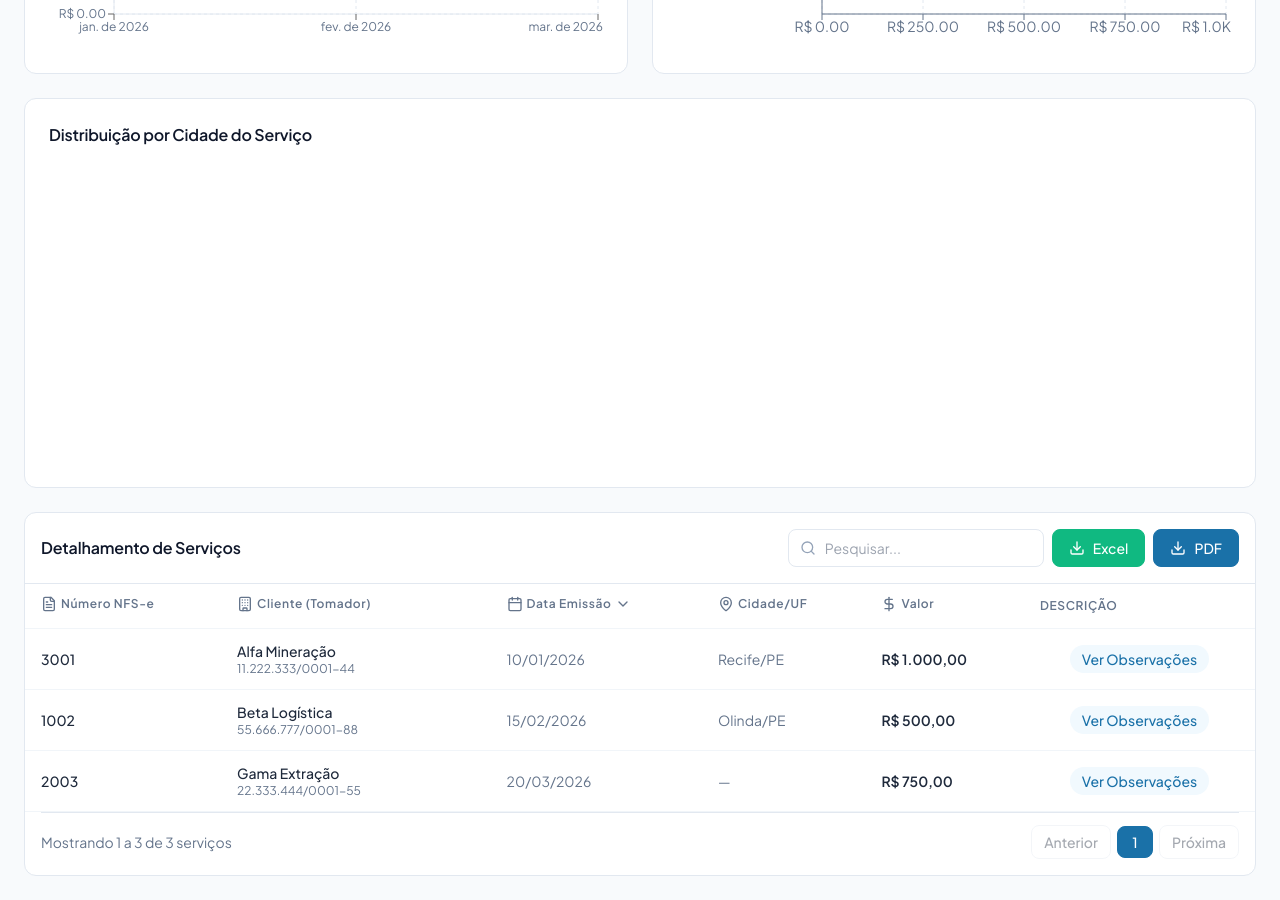
Test: tabela de Serviços › o modal so aparece depois do clique, e o Fechar o tira da tela
(page scrolled)
Expected: the text "Observações da Nota" is not shown
What coordinates should you click on to do the following:
click the button "Ver Observações" in the row of "3001"
I would click on:
 (1140, 659)
Its box is x1=1070 y1=645 x2=1209 y2=673.
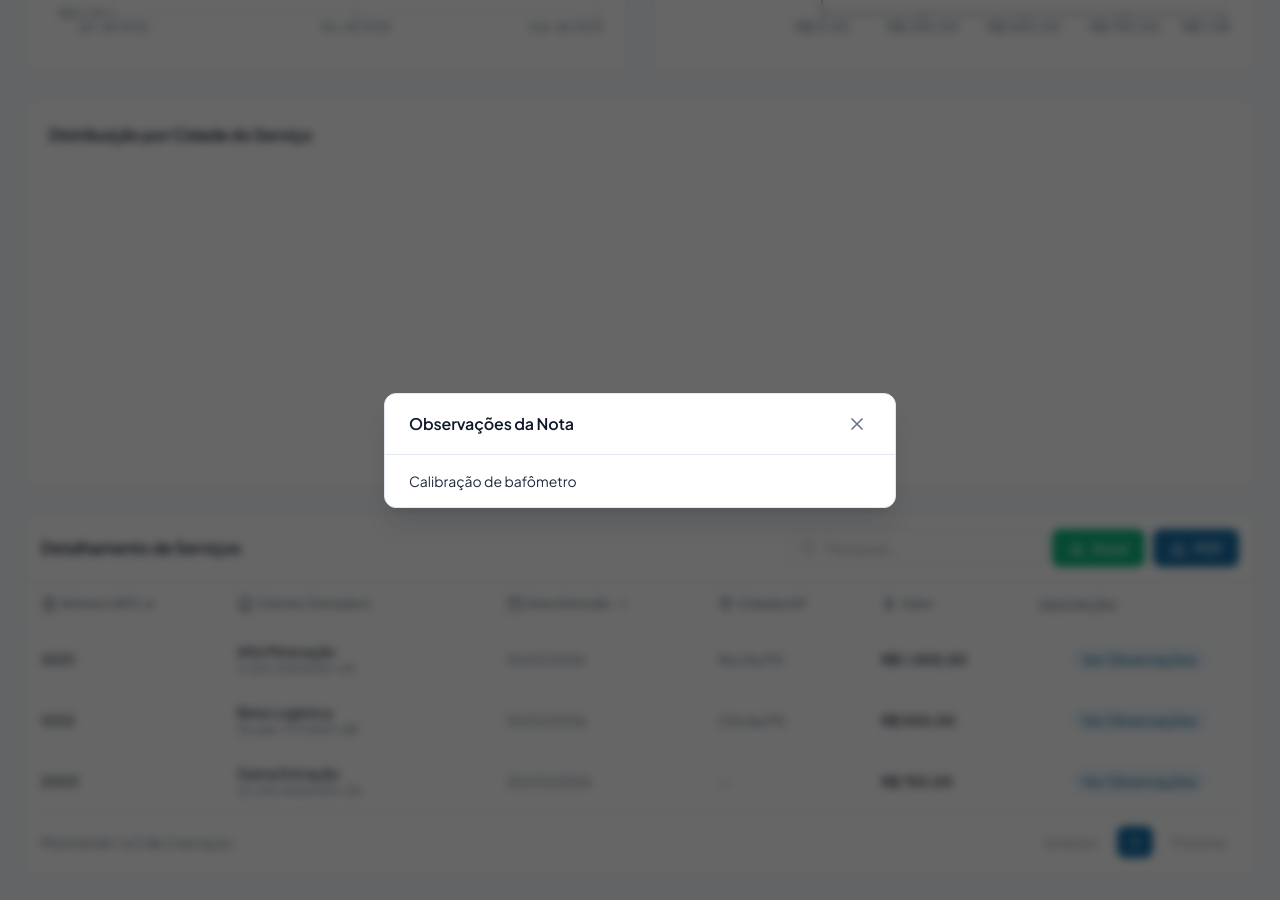
Expected: the heading "Observações da Nota" is shown, x1=409 y1=412 x2=574 y2=436
What coordinates should you click on to do the following:
click the button named "Fechar"
I would click on:
 (857, 424)
Its box is x1=843 y1=410 x2=871 y2=438.
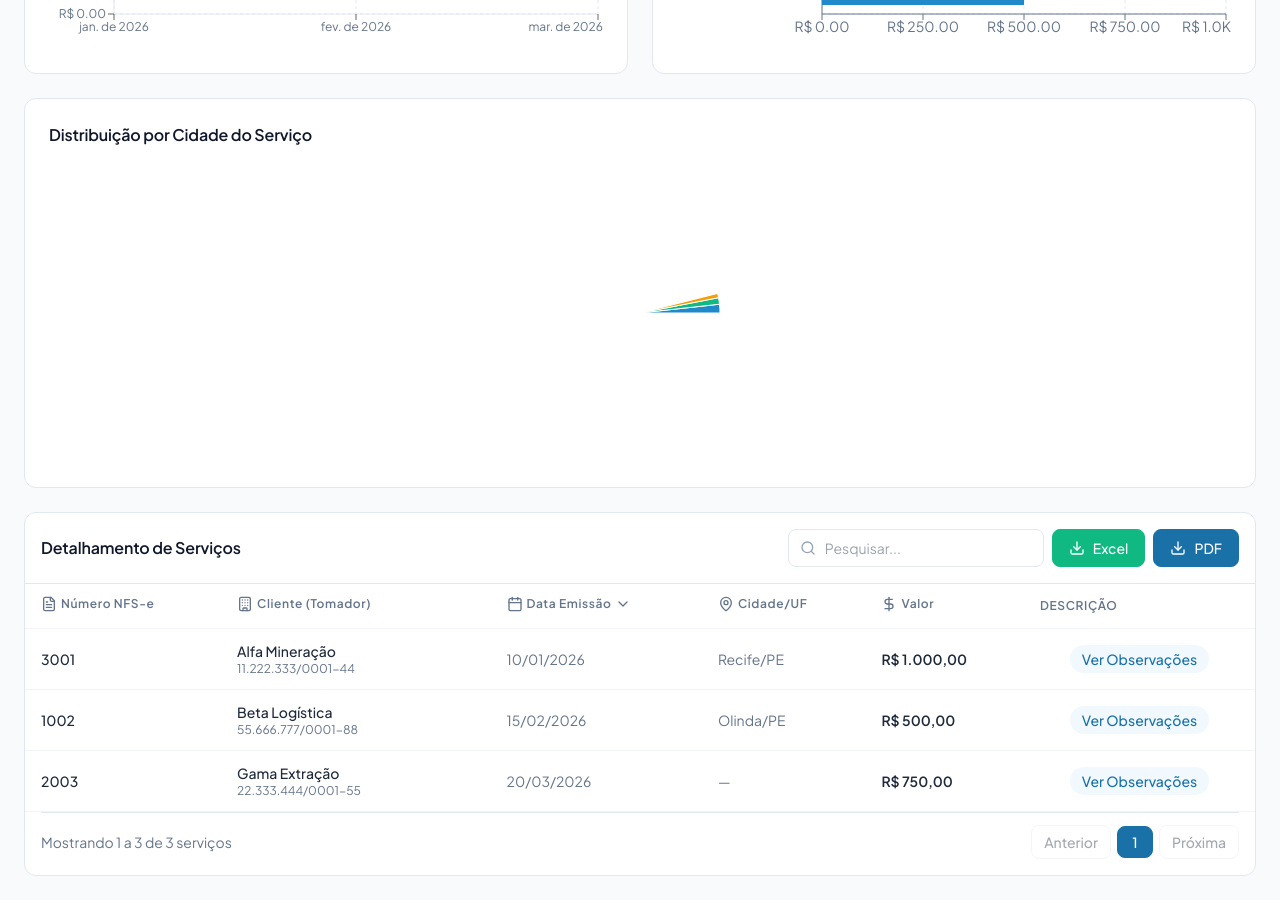
Expected: the heading "Observações da Nota" is gone
